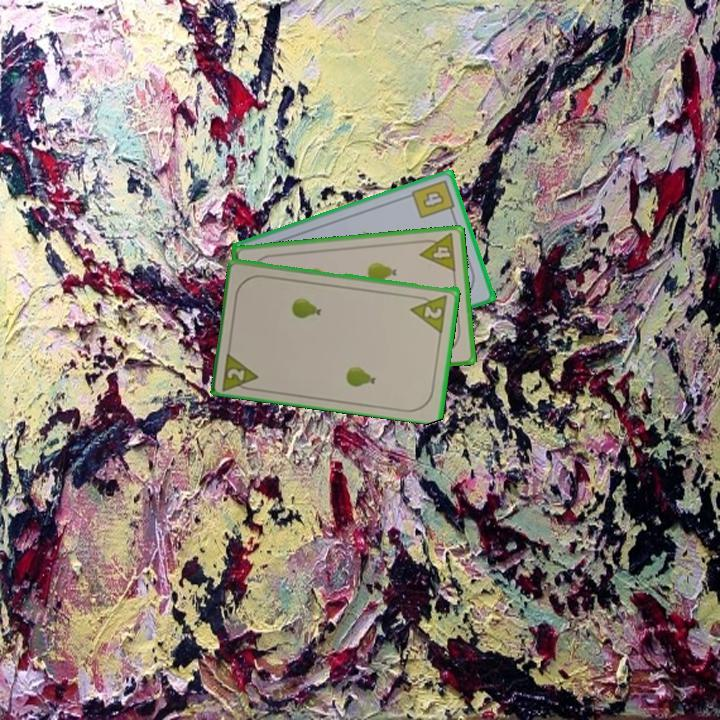2p: (219, 347, 262, 393), (421, 301, 445, 321)
4b: (408, 176, 458, 221)
4p: (415, 230, 459, 274)
